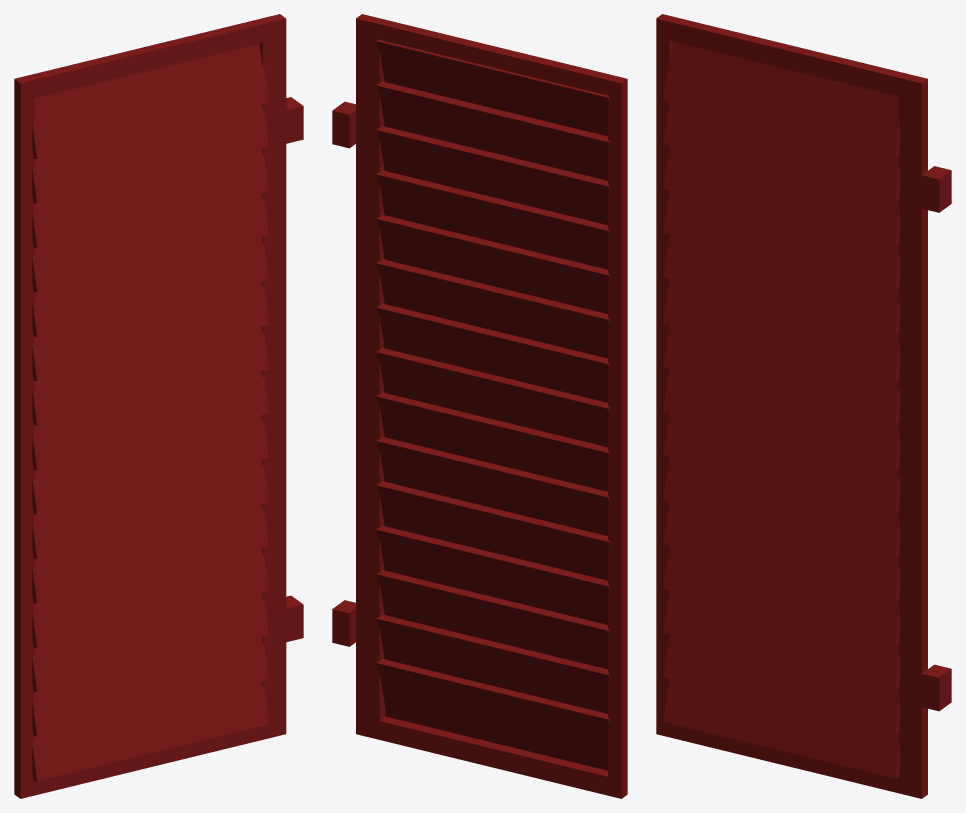
The model's file is village_pack_window_4.glb.
The picture shows the model from 3 angles, left to right: view 1: azimuth 30°, elevation 25°; view 2: azimuth 150°, elevation 25°; view 3: azimuth 330°, elevation 25°; orthographic projection.
Visible parts, largest first — view 1: window 4_wood 2_0; view 2: window 4_wood 2_0; view 3: window 4_wood 2_0.
Boxes of the visible parts, <box> form: window 4_wood 2_0: <box>14,14,303,798</box>; window 4_wood 2_0: <box>332,14,627,798</box>; window 4_wood 2_0: <box>656,14,951,798</box>.
Bounding box in the file's own units: 0.6402 × 1.55 × 0.0674.
